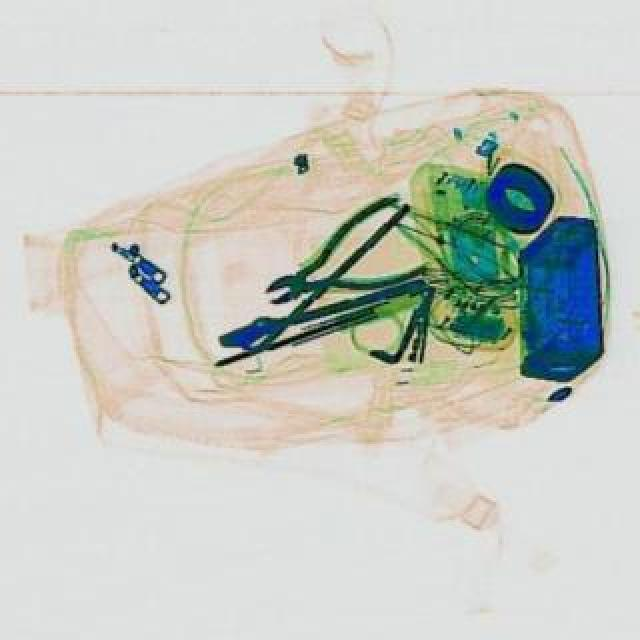wrench: (244, 188, 436, 334)
